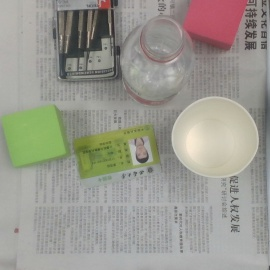bottle: (121, 17, 193, 107)
card: (73, 124, 162, 192)
cup: (170, 96, 259, 182)
